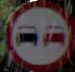No overtake: (4, 1, 74, 69)
